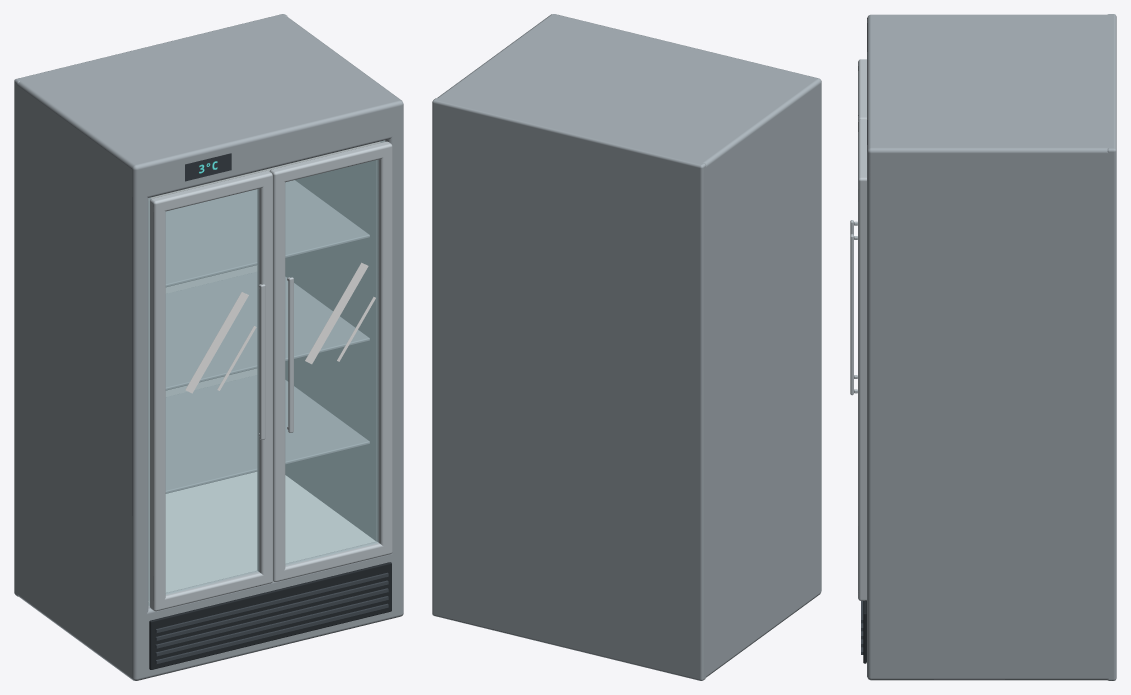
File: SM_ReachInFridge.glb
3 renders of one model, left to right at view 1: azimuth 30°, elevation 25°; view 2: azimuth 150°, elevation 25°; view 3: azimuth 270°, elevation 25°, orthographic. The views are drawn at different scales.
Parts seen in each view (by area): view 1: SM_ReachInFridge, SM_ReachInFridge.Door_L, SM_ReachInFridge.Door_R; view 2: SM_ReachInFridge; view 3: SM_ReachInFridge, SM_ReachInFridge.Door_R, SM_ReachInFridge.Door_L.
Boxes of the visible parts, left/top/right/bottom form: SM_ReachInFridge: left=14, top=14, right=403, bottom=680; SM_ReachInFridge.Door_L: left=150, top=170, right=272, bottom=611; SM_ReachInFridge.Door_R: left=269, top=141, right=392, bottom=581; SM_ReachInFridge: left=432, top=14, right=821, bottom=680; SM_ReachInFridge: left=861, top=14, right=1116, bottom=680; SM_ReachInFridge.Door_R: left=850, top=119, right=866, bottom=600; SM_ReachInFridge.Door_L: left=850, top=59, right=866, bottom=378.
Size of the model in its own units: 1.1 by 2 by 0.906.
6 materials, 6 textured.
